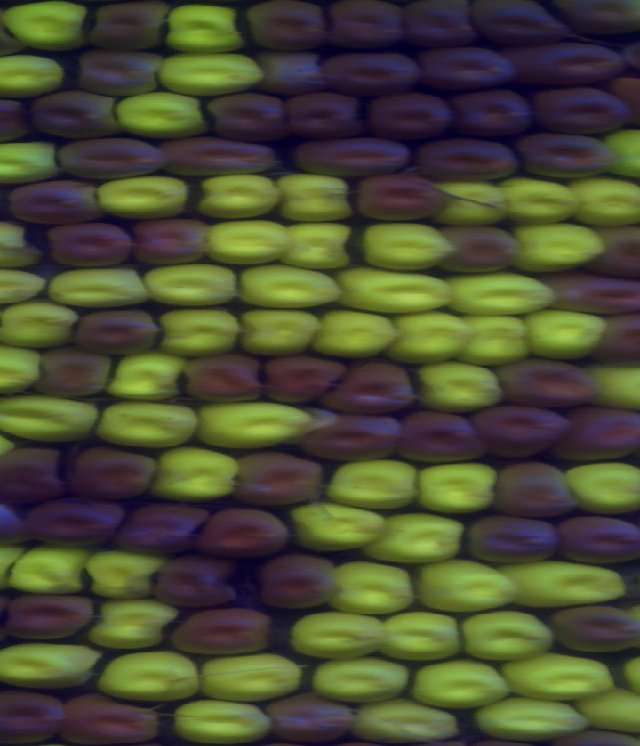fluorescent: (500, 553, 627, 610), (335, 267, 460, 318), (416, 552, 520, 610), (443, 269, 559, 319), (500, 653, 616, 703), (192, 403, 309, 452), (456, 611, 556, 667), (0, 388, 101, 442), (101, 648, 195, 706), (514, 308, 608, 365), (189, 656, 308, 701), (477, 697, 595, 742), (0, 1, 97, 55), (417, 358, 510, 414), (90, 591, 183, 647), (390, 306, 470, 371), (326, 557, 415, 615), (147, 446, 239, 502), (171, 696, 273, 746), (378, 604, 463, 664), (284, 503, 382, 555), (506, 223, 604, 275), (153, 3, 249, 56), (146, 55, 273, 95), (409, 461, 501, 516), (324, 458, 419, 511), (375, 510, 463, 567), (351, 700, 462, 745), (42, 268, 150, 314), (232, 265, 344, 309), (362, 220, 458, 271), (0, 639, 97, 689), (239, 304, 319, 364), (315, 307, 395, 367), (139, 262, 241, 309), (96, 400, 198, 447), (311, 655, 413, 702), (200, 220, 301, 267), (112, 92, 210, 140), (85, 546, 167, 603), (410, 660, 509, 707), (294, 612, 390, 660), (13, 546, 98, 598), (560, 462, 640, 515), (92, 177, 195, 218), (195, 174, 281, 222), (156, 309, 245, 355), (490, 175, 575, 223), (106, 352, 186, 402), (566, 172, 640, 226), (274, 172, 355, 221), (282, 222, 360, 269), (434, 177, 505, 227), (0, 303, 77, 349), (468, 311, 532, 366), (0, 57, 69, 99), (0, 142, 67, 185), (587, 362, 640, 415), (577, 691, 640, 730), (0, 340, 44, 390), (598, 128, 640, 179), (0, 265, 52, 305), (0, 225, 45, 267)
nonfluorescent: (512, 34, 628, 91), (170, 601, 275, 661), (494, 358, 602, 415), (227, 453, 331, 512), (296, 412, 406, 464), (317, 360, 417, 417), (250, 552, 344, 612), (408, 131, 518, 182), (510, 129, 617, 180), (352, 174, 462, 223), (0, 587, 96, 642), (488, 460, 577, 519), (458, 516, 565, 565), (470, 1, 586, 46), (56, 694, 161, 743), (468, 410, 570, 460), (33, 87, 129, 140), (66, 446, 160, 500), (163, 136, 278, 180), (399, 410, 489, 466), (147, 555, 242, 607), (133, 214, 220, 270), (41, 217, 136, 268), (545, 268, 640, 319), (363, 86, 451, 141), (266, 694, 360, 745), (525, 90, 634, 133), (206, 86, 288, 143), (22, 497, 123, 543), (202, 509, 293, 560), (414, 45, 516, 90), (292, 135, 419, 171), (331, 1, 417, 54), (59, 138, 170, 179), (183, 350, 264, 406), (441, 226, 522, 281), (92, 1, 177, 53), (542, 607, 640, 652), (564, 403, 640, 461), (68, 48, 163, 94), (251, 1, 335, 53), (253, 43, 333, 97), (9, 179, 105, 224), (556, 515, 640, 566), (258, 355, 340, 407), (446, 89, 533, 138), (74, 313, 162, 360), (323, 52, 428, 91), (0, 443, 67, 504), (118, 502, 201, 551), (0, 690, 70, 745), (403, 1, 482, 48), (37, 350, 114, 396), (551, 1, 640, 39), (592, 224, 640, 288), (294, 91, 361, 136), (595, 310, 640, 364), (0, 93, 32, 151), (607, 77, 640, 128), (0, 6, 31, 53)
